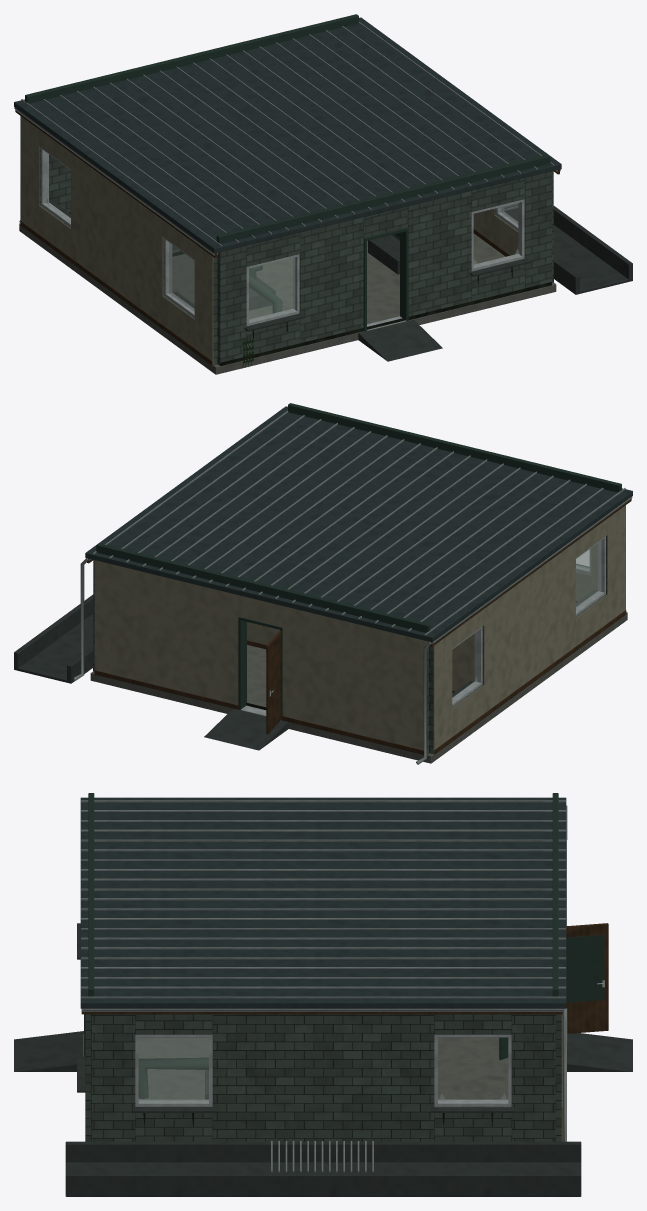
Rendered from GR05_05_CreekPump.glb.
The picture shows the model from 3 angles, top to bottom: view 1: azimuth 30°, elevation 25°; view 2: azimuth 150°, elevation 25°; view 3: azimuth 270°, elevation 25°; orthographic projection. The views are drawn at different scales.
Visible parts, largest first — view 1: Static; view 2: Static, Door_01; view 3: Static, Door_01.
Part boxes in pixels (<box>): Static: <box>14,14,632,374</box>; Static: <box>14,403,632,764</box>; Door_01: <box>266,631,281,734</box>; Static: <box>14,793,632,1196</box>; Door_01: <box>566,923,608,1033</box>.
Bounding box in the file's own units: 11.2 × 3.53 × 12.
14 materials, 12 textured.
